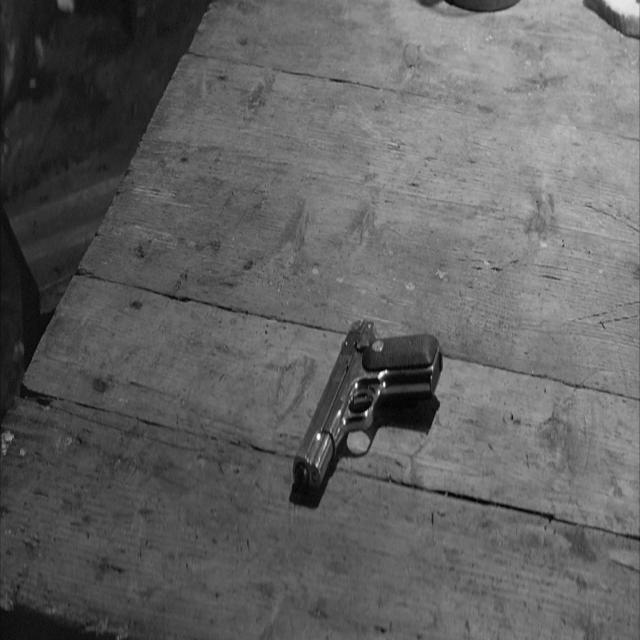gun-knife-thesis - v11 Yolov5 augmented: (292, 282, 450, 517)
